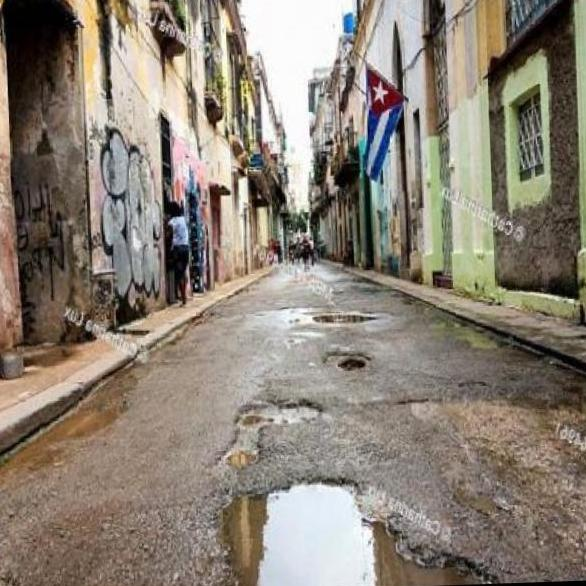pothole: (198, 454, 468, 586), (230, 384, 328, 432), (302, 302, 388, 330), (314, 340, 381, 374)
